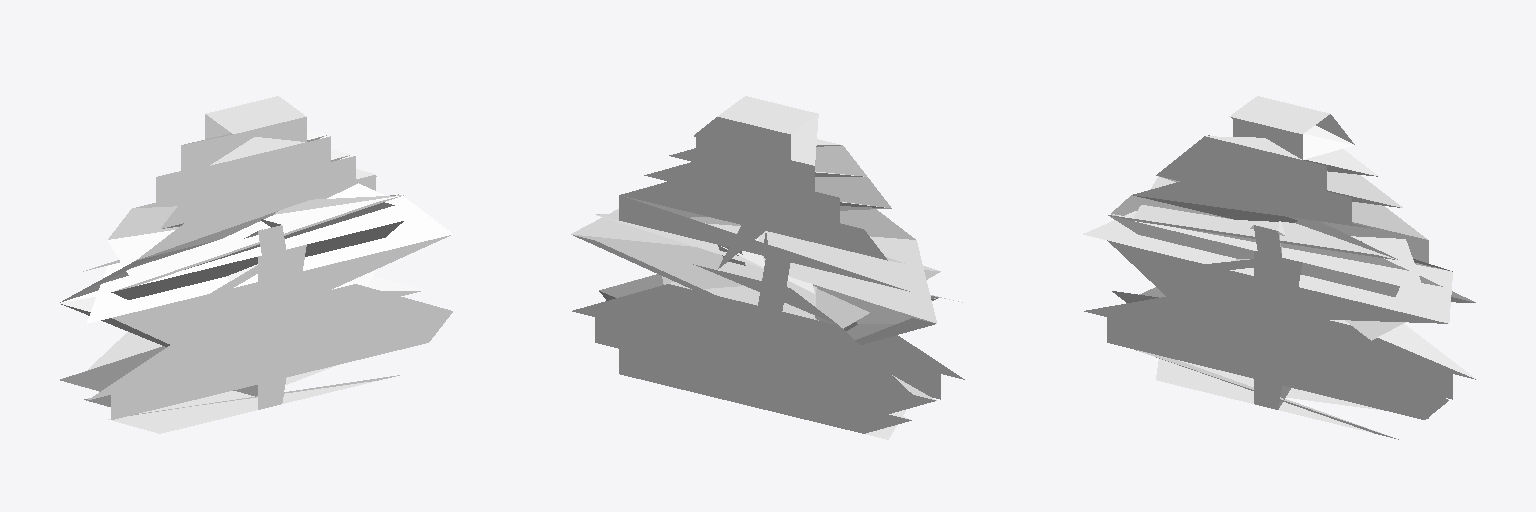
Rendered from shieldboost.obj.
3 renders of one model, left to right at view 1: azimuth 30°, elevation 25°; view 2: azimuth 150°, elevation 25°; view 3: azimuth 330°, elevation 25°, orthographic.
Bounding box in the file's own units: 15 × 11 × 2.